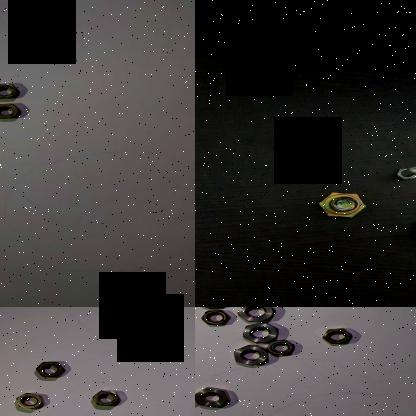Bolts: (310, 188, 372, 221), (270, 121, 318, 149), (291, 155, 336, 177), (387, 162, 416, 180)
NUTS: (242, 320, 282, 346), (233, 342, 270, 368), (316, 323, 354, 346), (195, 386, 230, 409), (13, 390, 50, 410), (90, 386, 127, 406), (33, 360, 69, 378), (259, 338, 295, 356), (235, 307, 281, 321), (198, 307, 230, 326), (0, 82, 25, 101), (0, 101, 23, 119)
